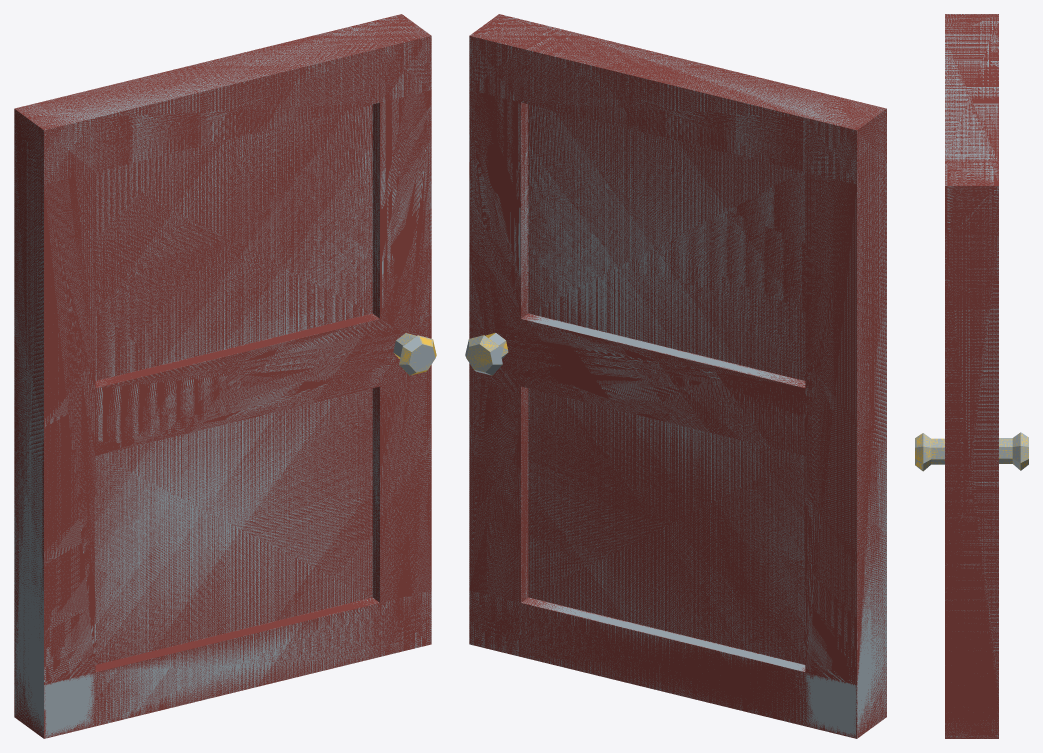
File: Door.fbx
3 views of the same model, side by side, from view 1: azimuth 30°, elevation 25°; view 2: azimuth 150°, elevation 25°; view 3: azimuth 270°, elevation 25° (orthographic). The views are drawn at different scales.
Parts seen in each view (by area): view 1: Model; view 2: Model; view 3: Model.
Part boxes in pixels (bbox=[...]): Model: bbox=[14, 14, 436, 738]; Model: bbox=[465, 14, 886, 738]; Model: bbox=[915, 14, 1028, 738].
Bounding box in the file's own units: 1.5 × 2.25 × 0.42.
